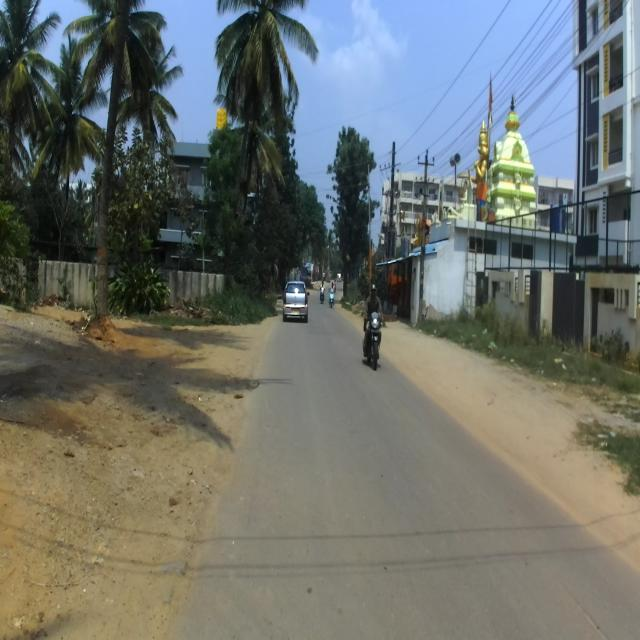car ahead at: (277, 273, 314, 335)
